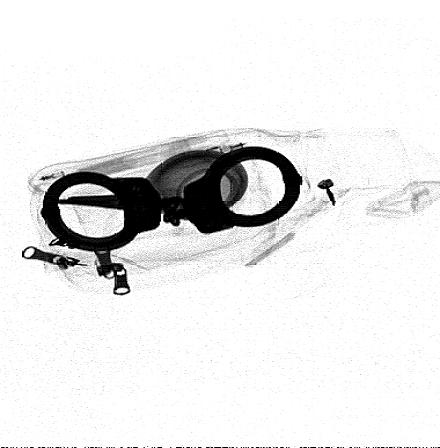HandCuffs: (39, 146, 303, 251)
